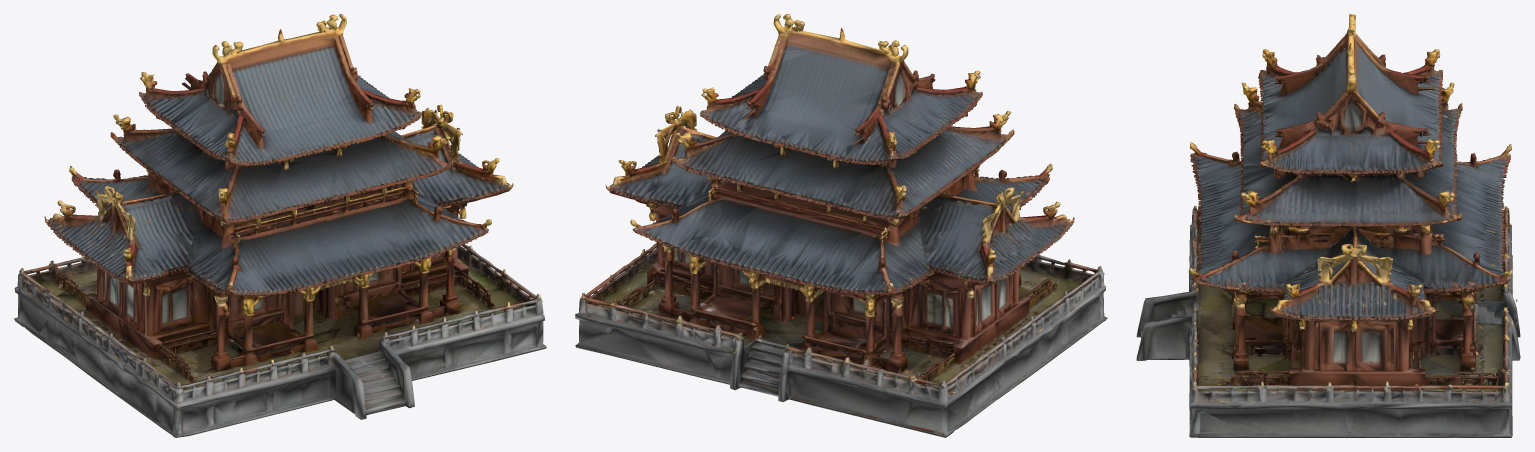
File: bq_alchemy_hall.hd.glb
The picture shows the model from 3 angles, left to right: view 1: azimuth 30°, elevation 25°; view 2: azimuth 150°, elevation 25°; view 3: azimuth 270°, elevation 25°; orthographic projection.
Visible parts, largest first — view 1: Mesh_0; view 2: Mesh_0; view 3: Mesh_0.
Part boxes in pixels (x1,y1,x2,y2): Mesh_0: (14, 14, 546, 437); Mesh_0: (575, 14, 1107, 437); Mesh_0: (1136, 14, 1520, 437).
Size of the model in its own units: 1.9 by 1.44 by 1.64.
1 material, 1 textured.
